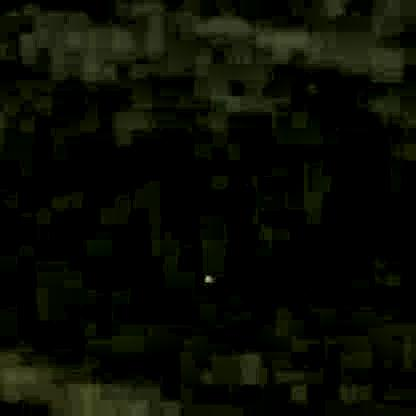golfball: (201, 274, 212, 284)
